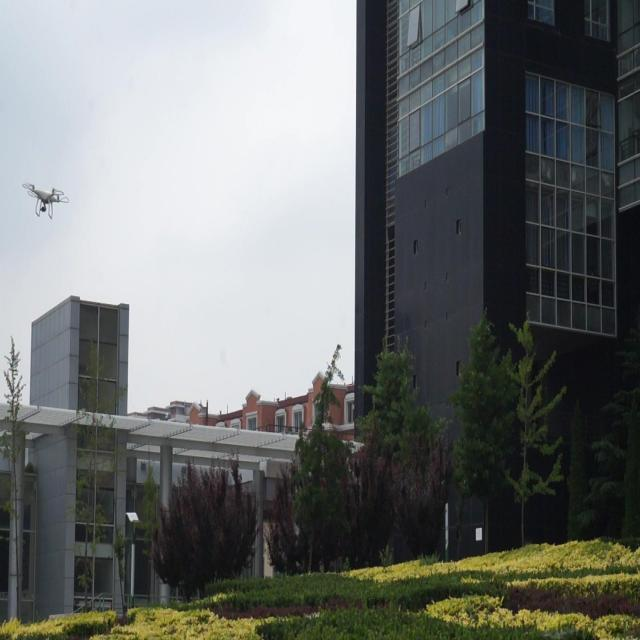UAV: (22, 183, 69, 219)
